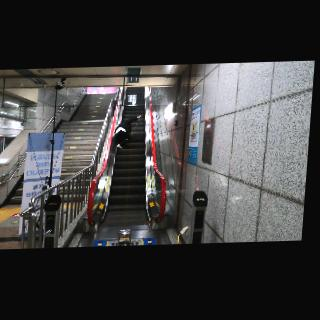anomaly: (111, 114, 145, 147)
